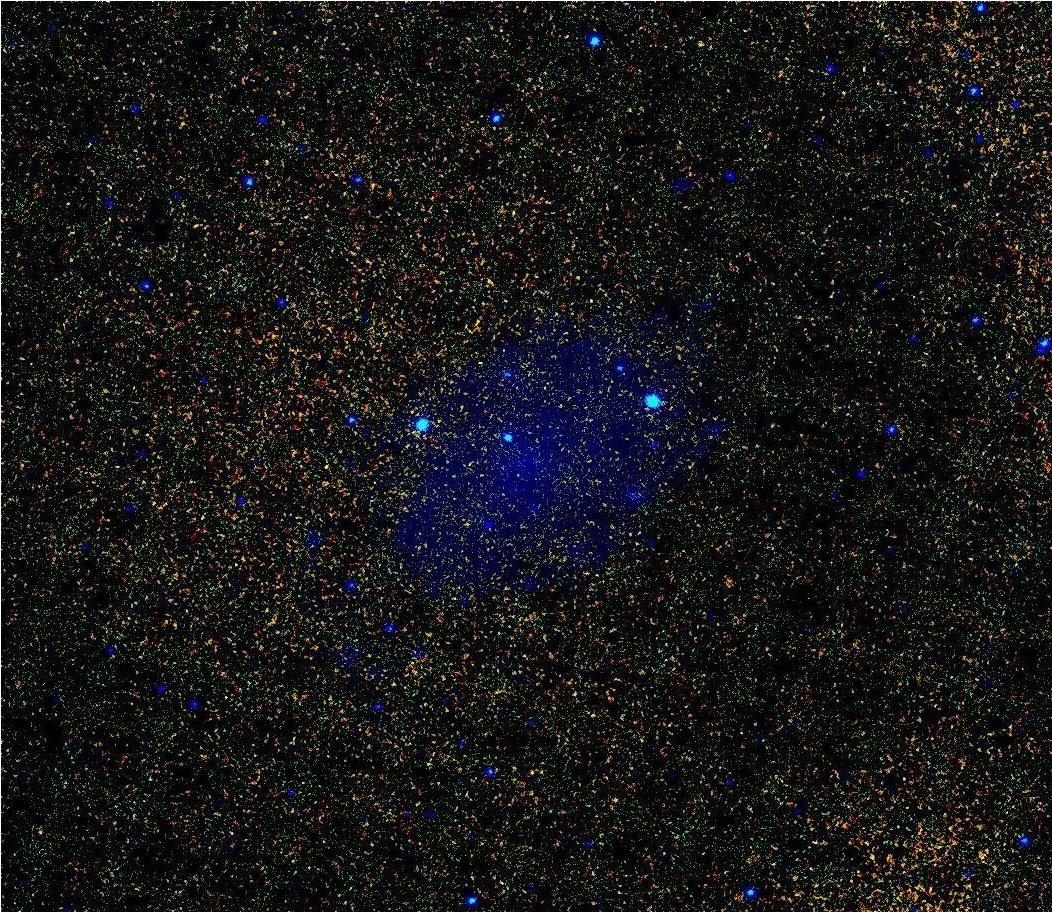star: (26, 819, 56, 849)
